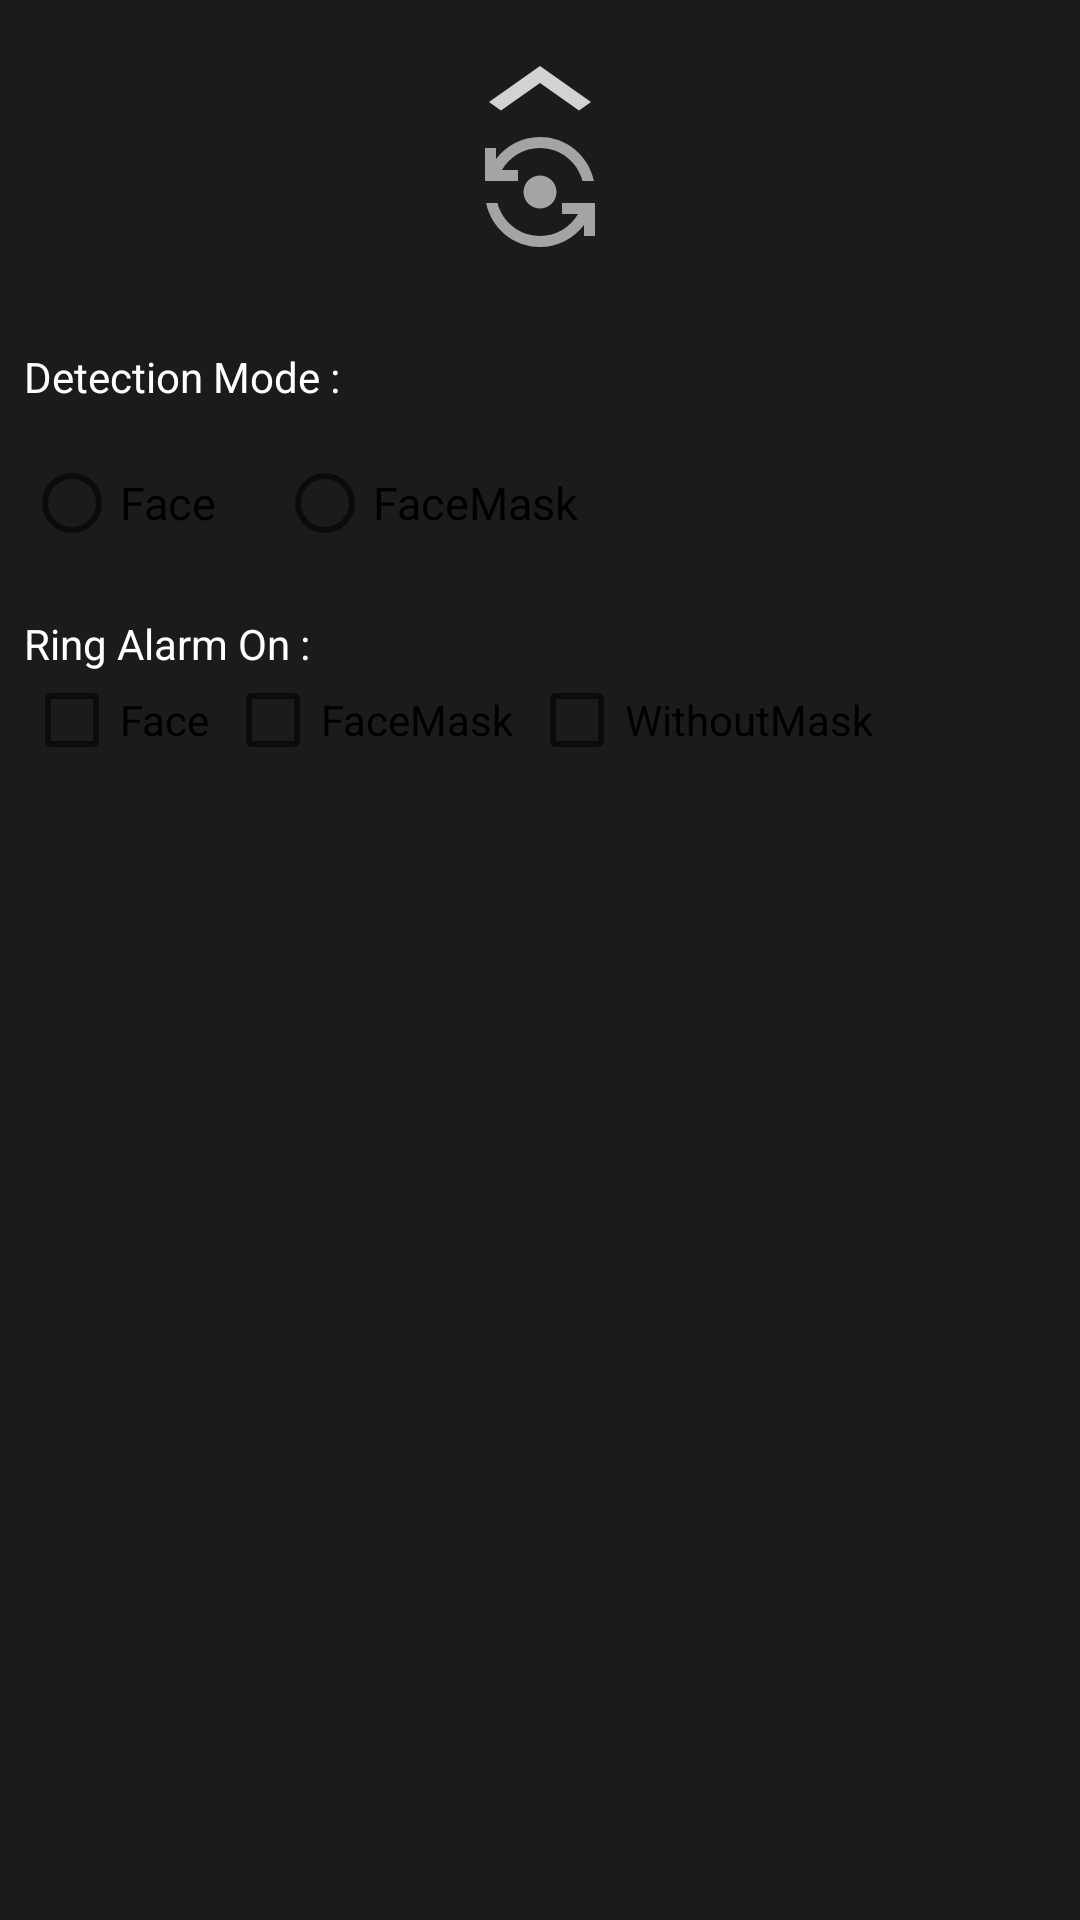

Point at icon controls on the screen. Image size 1080w x 1920h, points as (x,y).
arrow up: (540,88)
camera: (540,192)
